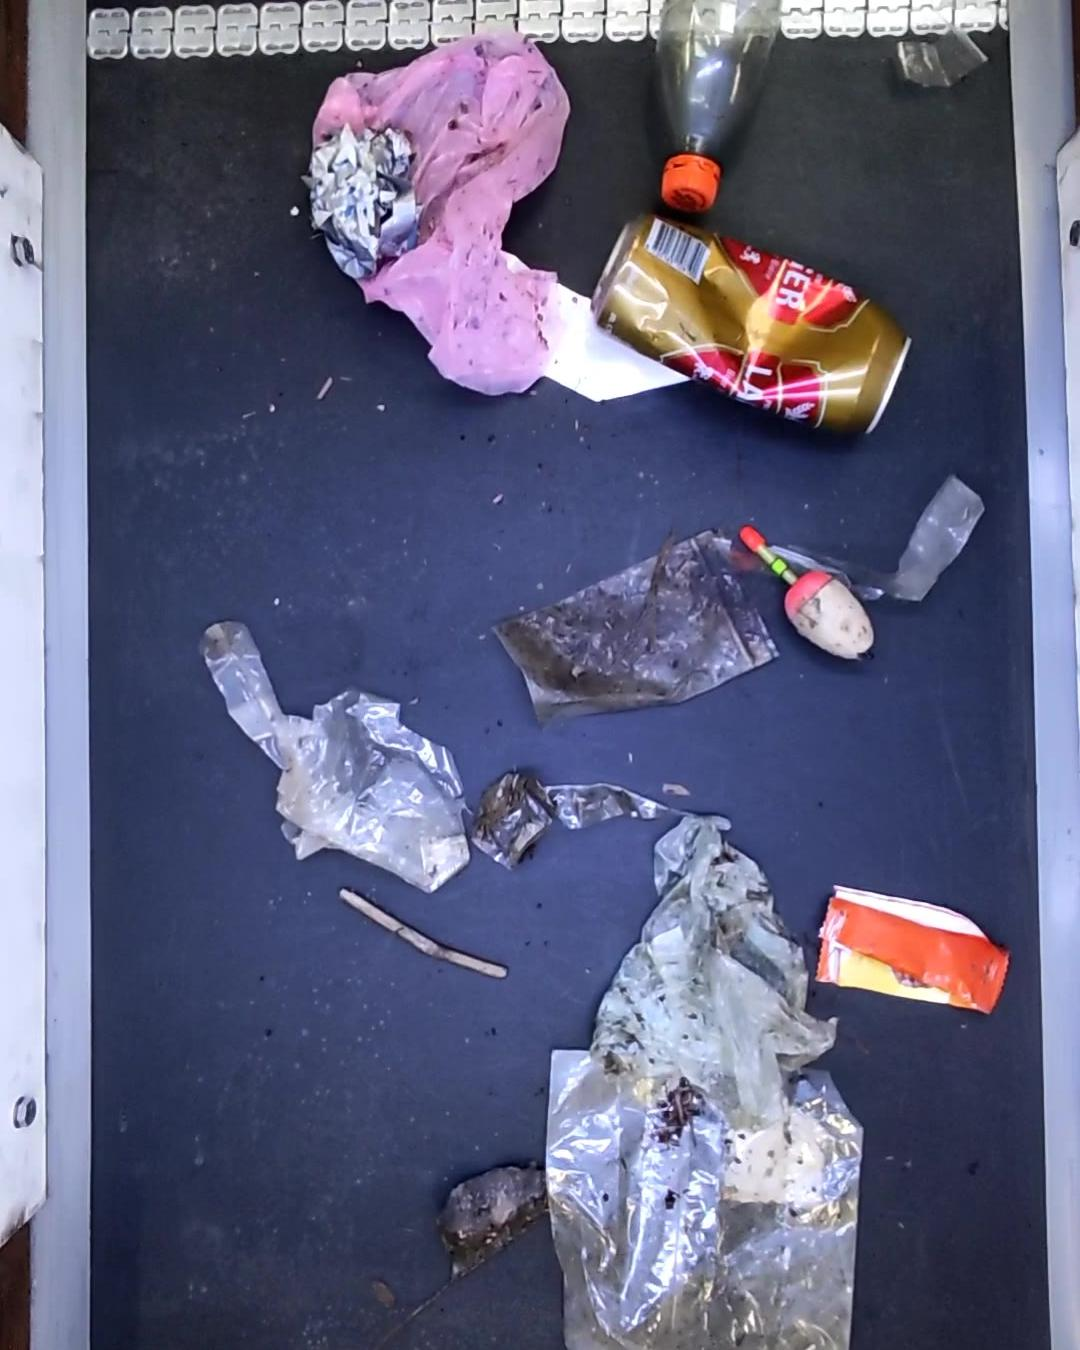Drankblikjes: (595, 212, 918, 439)
Drankflessen - 1-2 liter: (644, 0, 779, 208)
Plastic folies of stukken daarvan 2.5- 50 cm: (527, 1055, 866, 1350), (591, 810, 835, 1141), (284, 685, 473, 895), (776, 465, 983, 601), (471, 771, 698, 872), (186, 611, 323, 773), (895, 22, 986, 89)
Snoep snack en chips verpakkingen: (817, 881, 1013, 1018)
